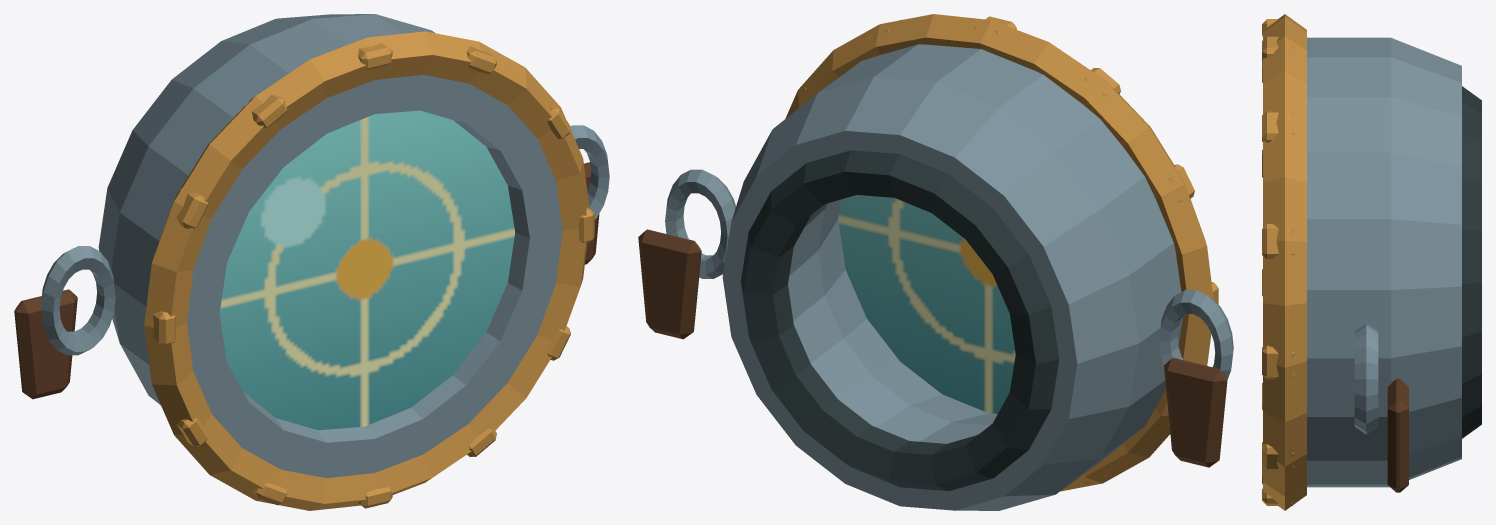
File: sniper_eye.obj
The picture shows the model from 3 angles, left to right: view 1: azimuth 30°, elevation 25°; view 2: azimuth 150°, elevation 25°; view 3: azimuth 270°, elevation 25°; orthographic projection. The views are drawn at different scales.
Visible parts, largest first — view 1: C_Lens.001_sniper_eye_reticle_lens, A_OpticBarrel.001_sniper_eye_housing, B_FocusRing.001_sniper_eye_focus_collar, D_StrapEye_-1.001_sniper_eye_housing, D_LeatherTab_-1.001_sniper_eye_leather, D_StrapEye_1.001_sniper_eye_housing, B_Knurl_5.001_sniper_eye_focus_collar, B_Knurl_4.001_sniper_eye_focus_collar, B_Knurl_6.001_sniper_eye_focus_collar, B_Knurl_3.001_sniper_eye_focus_collar; view 2: A_OpticBarrel.001_sniper_eye_housing, B_RearRubberCup.001_sniper_eye_eyecup, C_Lens.001_sniper_eye_reticle_lens, B_FocusRing.001_sniper_eye_focus_collar, D_LeatherTab_1.001_sniper_eye_leather, D_LeatherTab_-1.001_sniper_eye_leather, D_StrapEye_1.001_sniper_eye_housing, D_StrapEye_-1.001_sniper_eye_housing; view 3: A_OpticBarrel.001_sniper_eye_housing, B_FocusRing.001_sniper_eye_focus_collar, B_RearRubberCup.001_sniper_eye_eyecup, D_StrapEye_1.001_sniper_eye_housing, D_LeatherTab_1.001_sniper_eye_leather, B_Knurl_1.001_sniper_eye_focus_collar, B_Knurl_0.001_sniper_eye_focus_collar, B_Knurl_2.001_sniper_eye_focus_collar, B_Knurl_11.001_sniper_eye_focus_collar, B_Knurl_3.001_sniper_eye_focus_collar.
Part boxes in pixels (x1,y1,x2,y2): C_Lens.001_sniper_eye_reticle_lens: (219,110,514,430); A_OpticBarrel.001_sniper_eye_housing: (98,14,562,478); B_FocusRing.001_sniper_eye_focus_collar: (144,31,589,510); D_StrapEye_-1.001_sniper_eye_housing: (41,246,115,355); D_LeatherTab_-1.001_sniper_eye_leather: (14,289,77,399); D_StrapEye_1.001_sniper_eye_housing: (570,125,609,219); B_Knurl_5.001_sniper_eye_focus_collar: (169,188,208,228); B_Knurl_4.001_sniper_eye_focus_collar: (244,89,287,128); B_Knurl_6.001_sniper_eye_focus_collar: (153,311,175,346); B_Knurl_3.001_sniper_eye_focus_collar: (358,43,392,69); A_OpticBarrel.001_sniper_eye_housing: (722,44,1182,510); B_RearRubberCup.001_sniper_eye_eyecup: (741,150,1059,490); C_Lens.001_sniper_eye_reticle_lens: (838,195,1015,413); B_FocusRing.001_sniper_eye_focus_collar: (785,14,1213,491); D_LeatherTab_1.001_sniper_eye_leather: (638,229,701,339); D_LeatherTab_-1.001_sniper_eye_leather: (1164,357,1227,467); D_StrapEye_1.001_sniper_eye_housing: (665,169,735,278); D_StrapEye_-1.001_sniper_eye_housing: (1159,290,1233,378); A_OpticBarrel.001_sniper_eye_housing: (1307,37,1461,487); B_FocusRing.001_sniper_eye_focus_collar: (1263,14,1306,510); B_RearRubberCup.001_sniper_eye_eyecup: (1462,86,1481,438); D_StrapEye_1.001_sniper_eye_housing: (1354,323,1378,434); D_LeatherTab_1.001_sniper_eye_leather: (1387,378,1408,492); B_Knurl_1.001_sniper_eye_focus_collar: (1262,224,1295,259); B_Knurl_0.001_sniper_eye_focus_collar: (1262,345,1295,379); B_Knurl_2.001_sniper_eye_focus_collar: (1262,111,1295,142); B_Knurl_11.001_sniper_eye_focus_collar: (1262,442,1295,468); B_Knurl_3.001_sniper_eye_focus_collar: (1262,36,1295,60).
Bounding box in the file's own units: 1.86 × 1.41 × 0.6216.
Materials: 5 (1 with a texture image).
